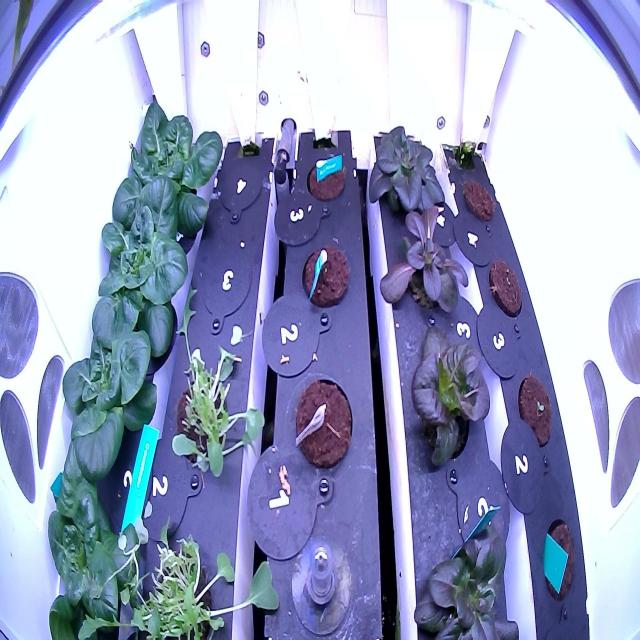empty_pod: (198, 240, 255, 337), (216, 149, 265, 229)
germination: (516, 368, 554, 453)
pod: (291, 373, 353, 472), (536, 510, 582, 608), (298, 241, 354, 311), (485, 253, 526, 325), (300, 151, 349, 206), (458, 169, 501, 228)
young: (71, 161, 196, 370), (54, 286, 170, 500), (36, 449, 141, 640), (102, 89, 228, 242), (406, 498, 527, 640), (406, 307, 492, 480), (370, 197, 474, 331), (362, 111, 450, 230)
